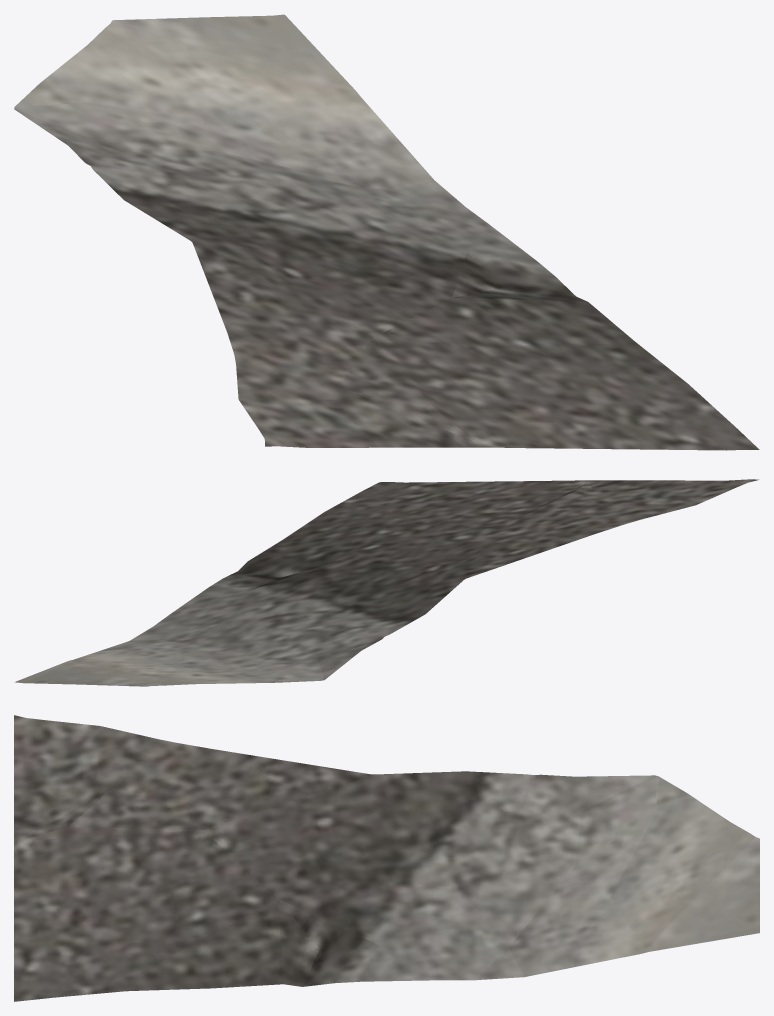
3 views of the same model, one above another, from view 1: azimuth 30°, elevation 25°; view 2: azimuth 150°, elevation 25°; view 3: azimuth 270°, elevation 25° (orthographic). The views are drawn at different scales.
Bounding box in the file's own units: 0.5034 × 0.1205 × 0.8374.
Materials: 1 (1 with a texture image).
